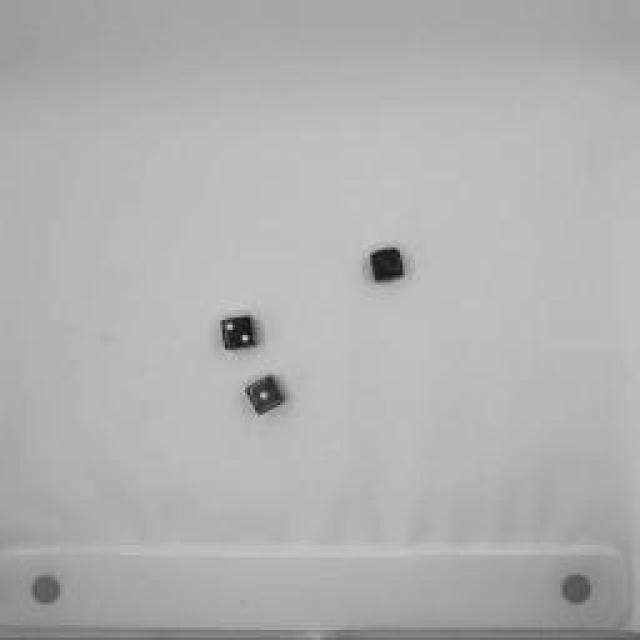dice_1: (241, 371, 289, 421)
dice_2: (215, 310, 260, 360)
dice_3: (365, 242, 410, 292)
